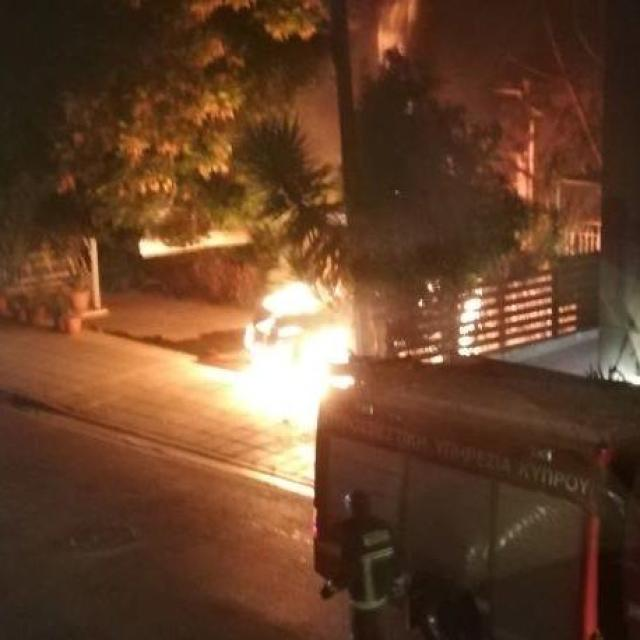Fire: (224, 285, 354, 393), (449, 287, 498, 361)
